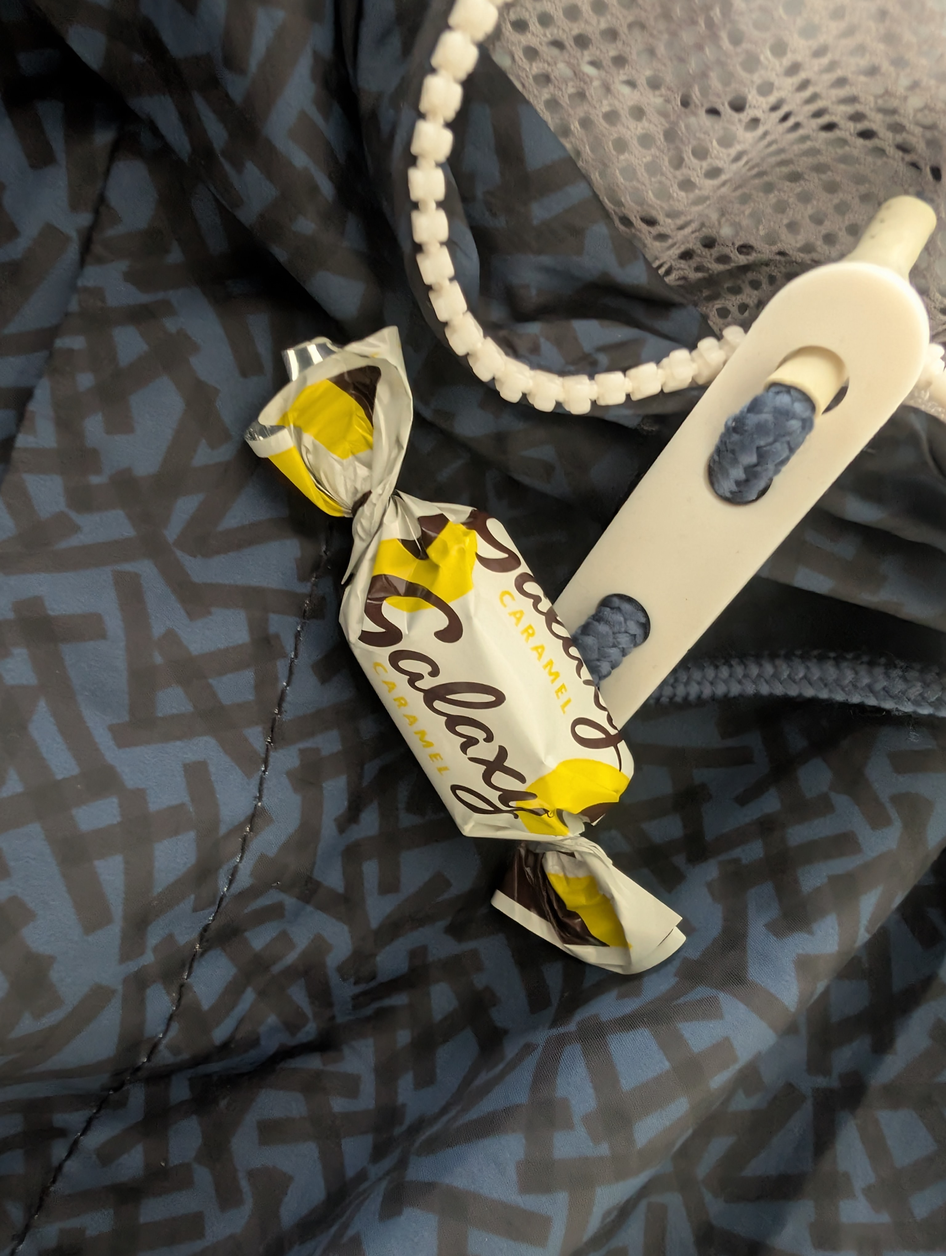Galaxy_Caramel: (238, 328, 688, 973)
